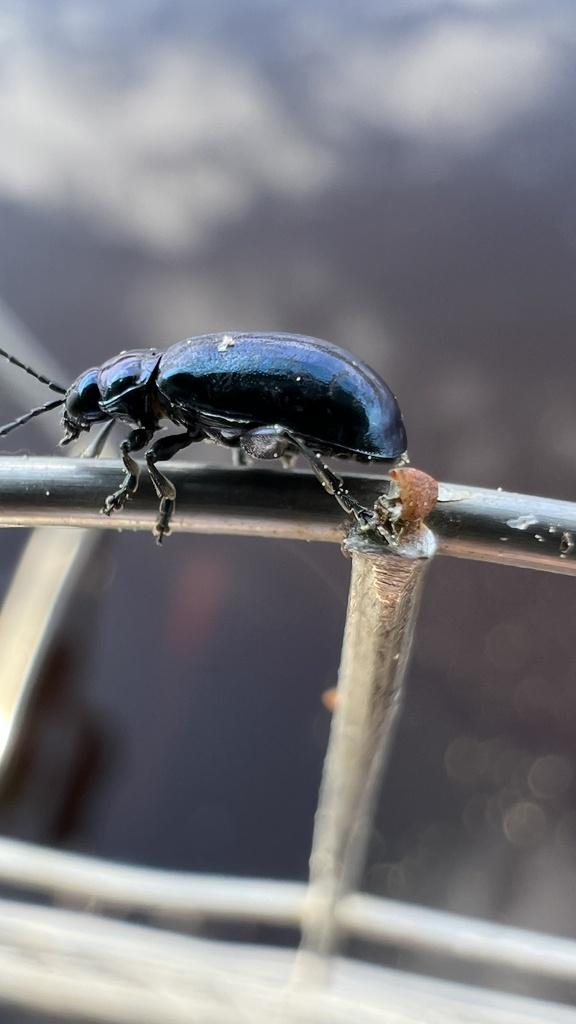flea_beetle: (1, 238, 494, 579)
